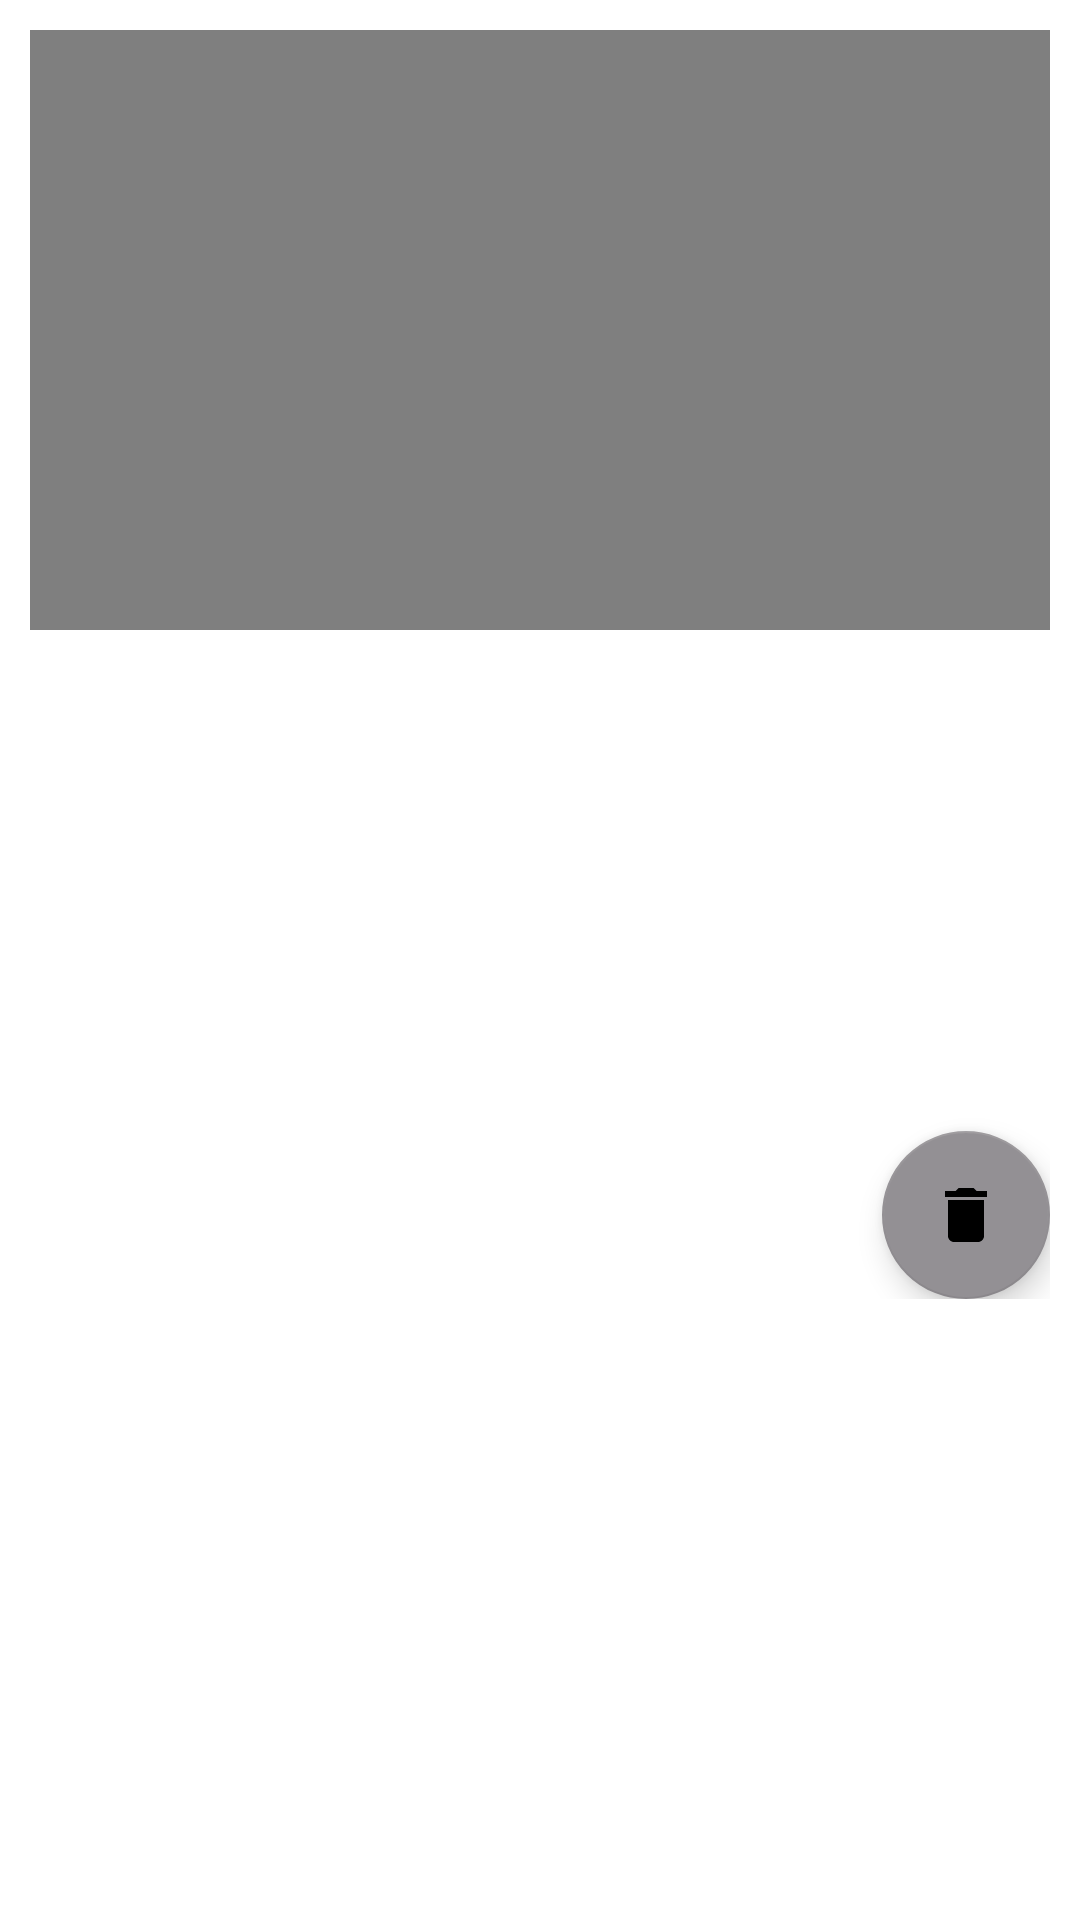

Icon bounding boxes for this 1080w x 1920h phone screenshot, format (x1, y1, x2, y2):
video delete: (882, 1131, 1050, 1299)
